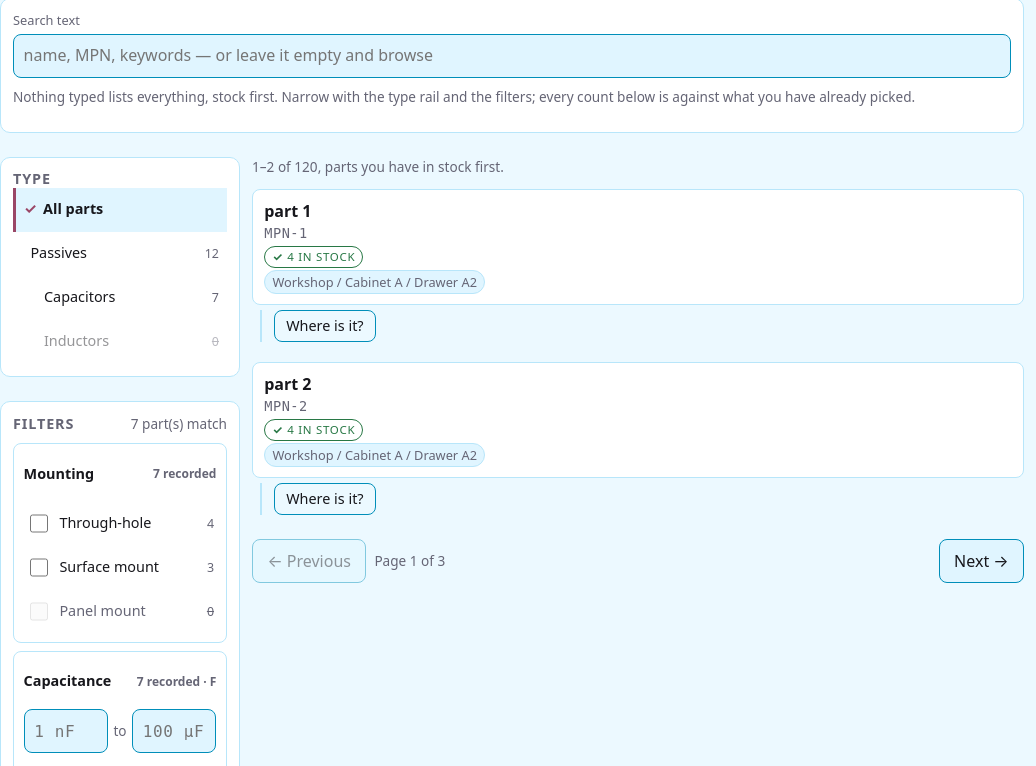
Test: a value the server refuses › says what is wrong with it, in units rather than in validation-speak
Type "1M" into the field named "Capacitance minimum" at (66, 731), box [24,709,108,753]
(page scrolled)
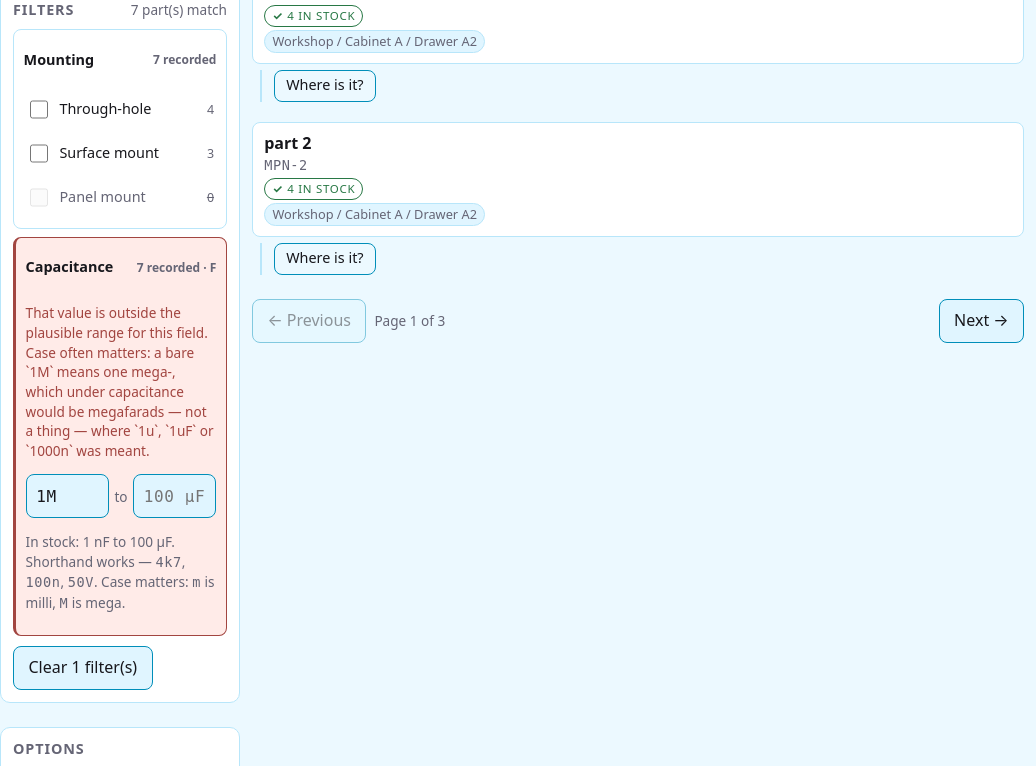
expect the text "not a thing" is shown: met, box [26,303,214,460]
